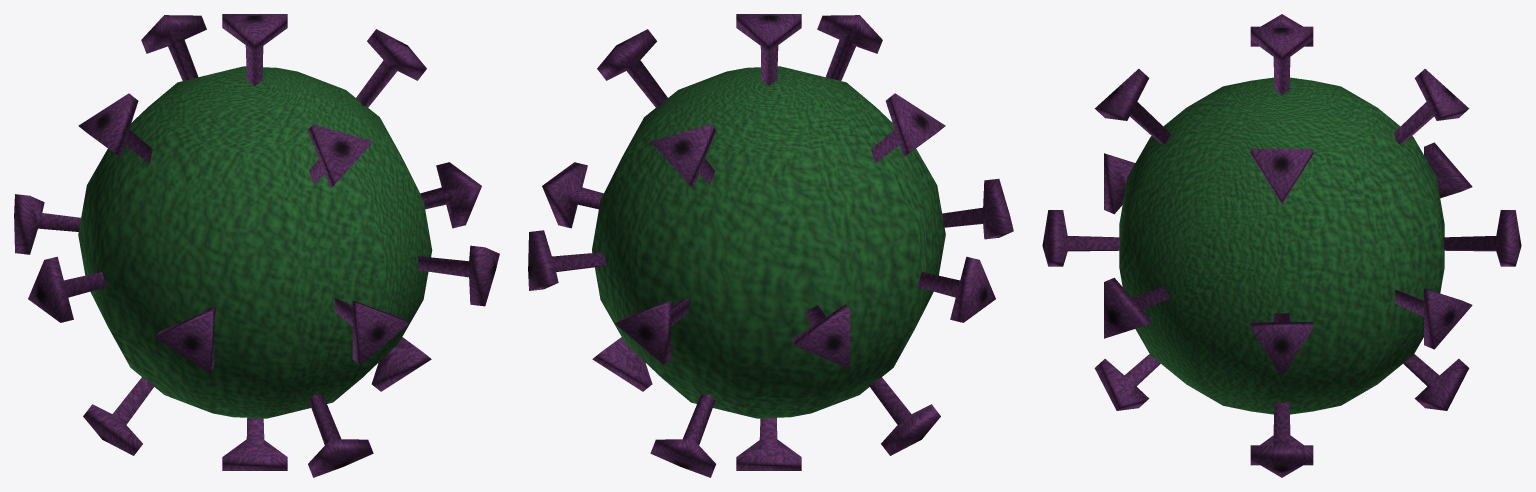
File: PlayerCell.fbx
3 renders of one model, left to right at view 1: azimuth 30°, elevation 25°; view 2: azimuth 150°, elevation 25°; view 3: azimuth 270°, elevation 25°, orthographic. The views are drawn at different scales.
Visible parts, largest first — view 1: polySurface42; view 2: polySurface42; view 3: polySurface42.
Part boxes in pixels (x1=…): polySurface42: x1=14, y1=14, x2=499, y2=477; polySurface42: x1=528, y1=14, x2=1013, y2=477; polySurface42: x1=1042, y1=14, x2=1521, y2=477.
Size of the model in its own units: 1.26 by 1.26 by 1.26.
